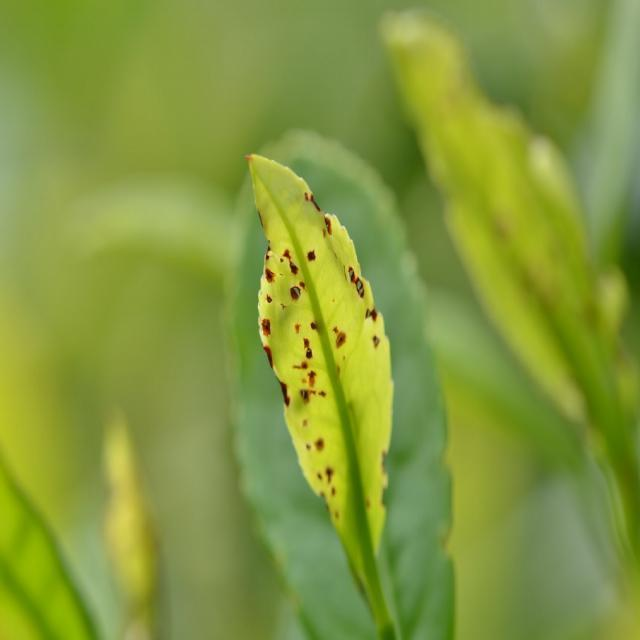Tea red scab: (252, 181, 390, 468)
